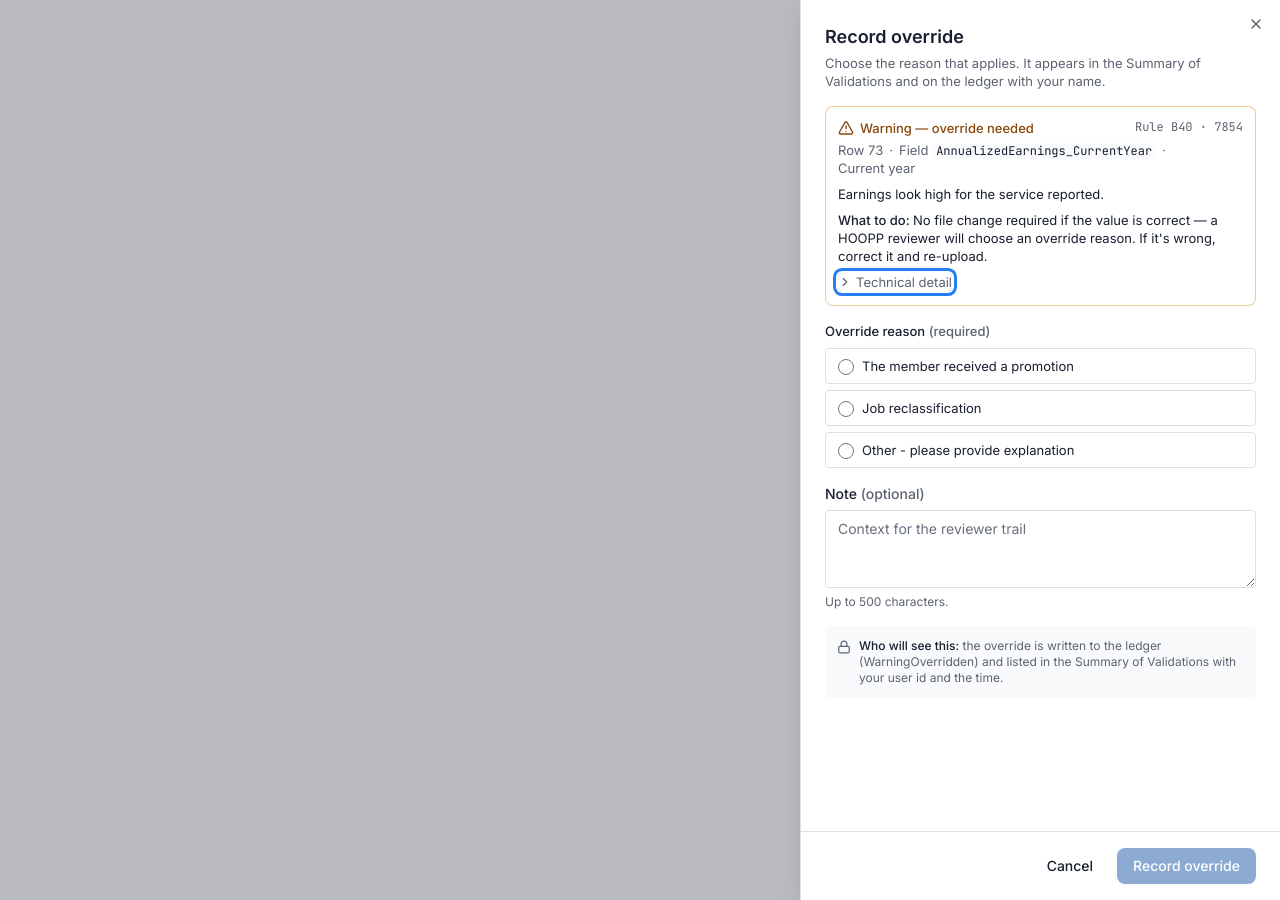
Test case: OverrideDrawer (ux 4.9 / 6.4 / 7.5) › maps REASON_NOT_ALLOWED to its UX copy in the inline alert and keeps the drawer open
Check: the list with test id "override-reasons" is shown, box [825,348,1256,468]
Click the radio button labelled "Job reclassification" at [846, 409], box [838,401,854,417]
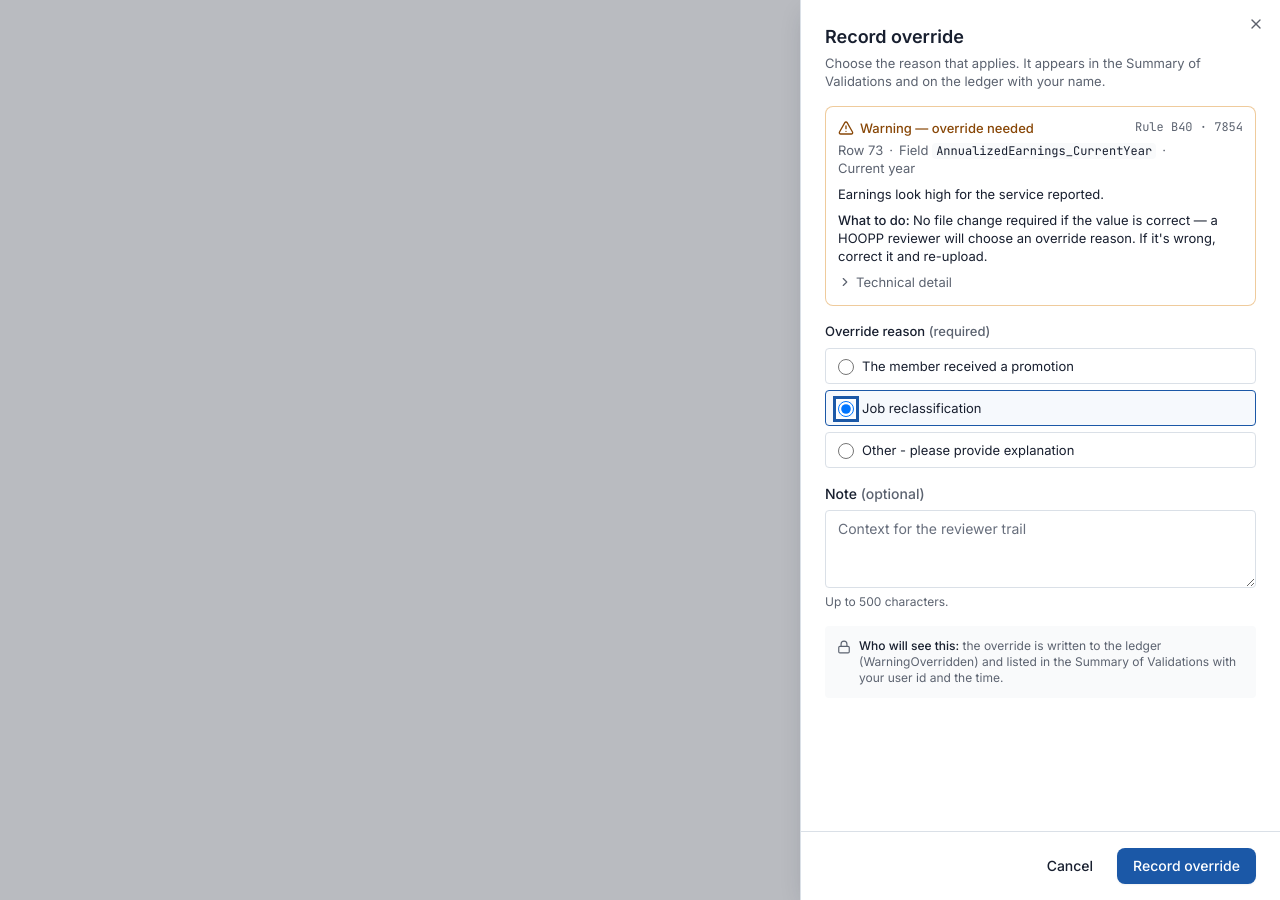
Click the button with test id "override-submit" at [1187, 866], box [1117,848,1256,884]
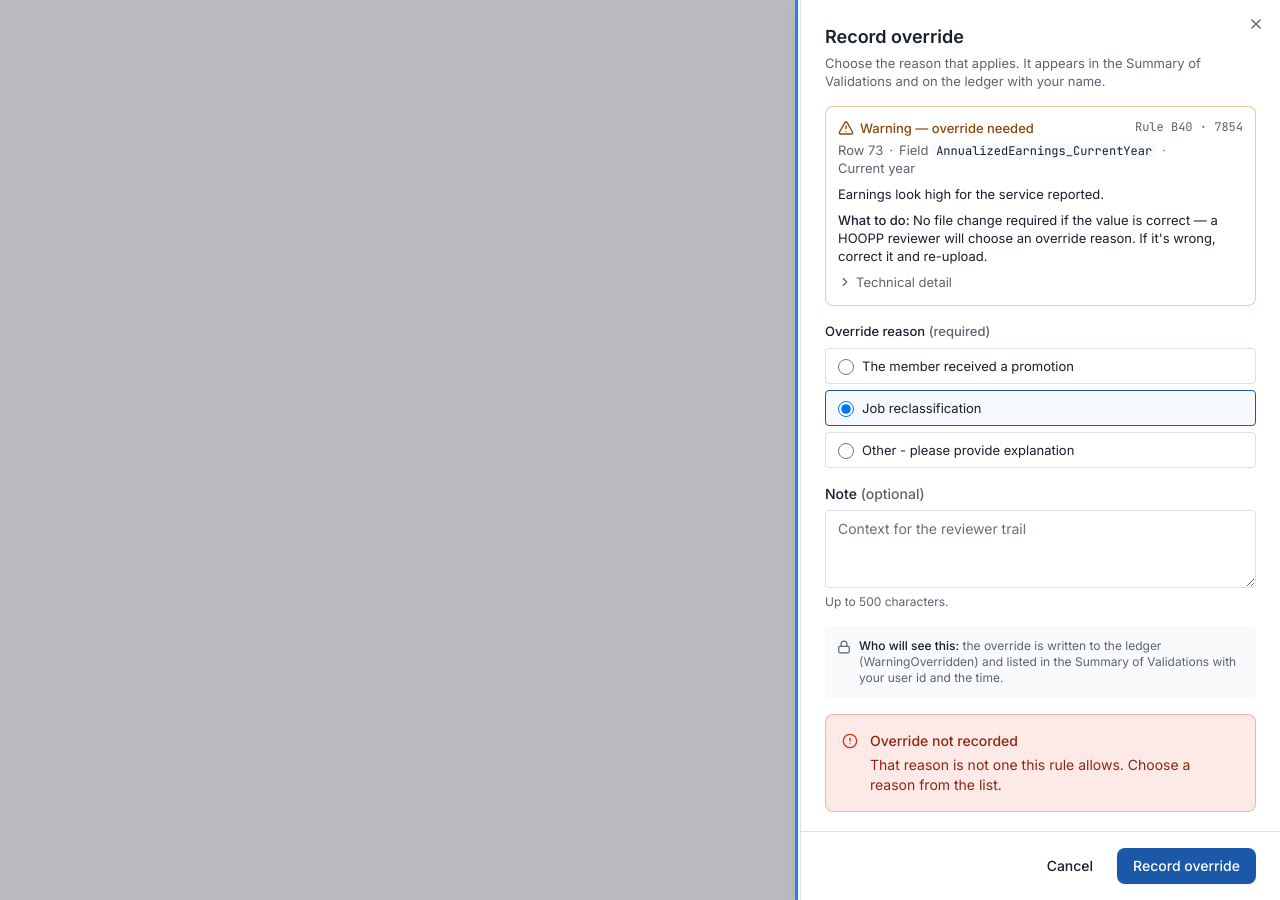
Check: the message does not show "server text", box [825,714,1256,812]
Check: the message shows "That reason is not one this rule allows. Choose a reason from the list.", box [870,756,1190,793]
